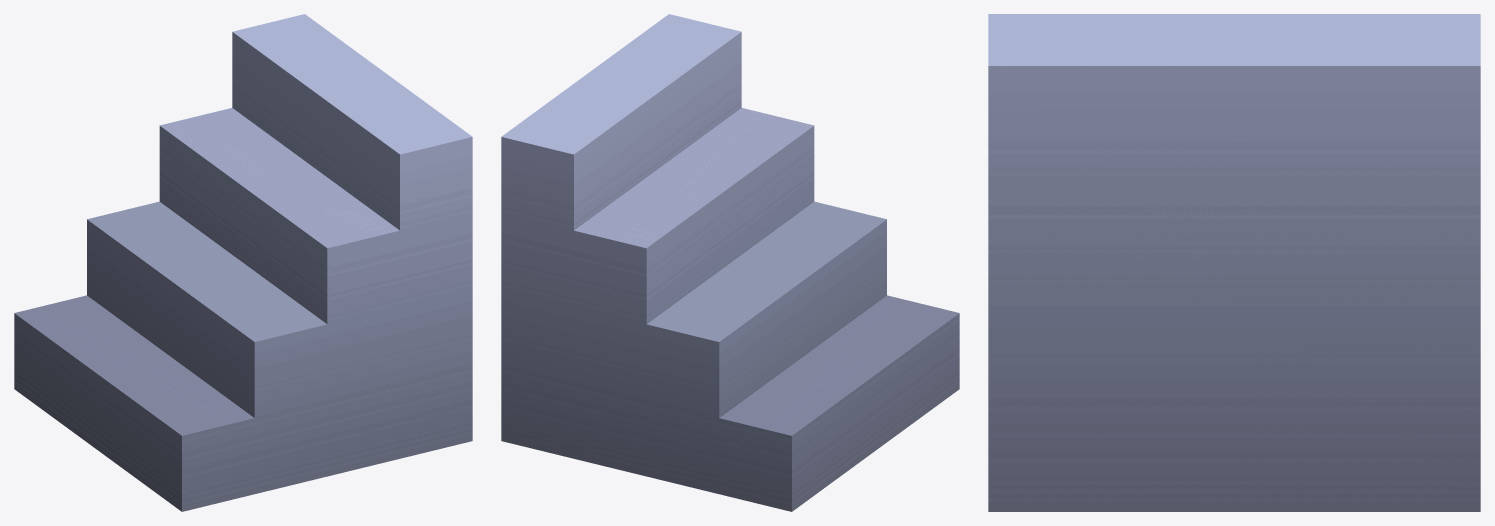
Rendered from stairs.glb.
3 renders of one model, left to right at view 1: azimuth 30°, elevation 25°; view 2: azimuth 150°, elevation 25°; view 3: azimuth 270°, elevation 25°, orthographic. The views are drawn at different scales.
Parts seen in each view (by area): view 1: stairs; view 2: stairs; view 3: stairs.
Part boxes in pixels (box(x1,y1,x2,y2)): stairs: box(14, 14, 472, 511); stairs: box(501, 14, 959, 511); stairs: box(988, 14, 1480, 511).
Size of the model in its own units: 1 by 1 by 1.
1 material, 1 textured.
